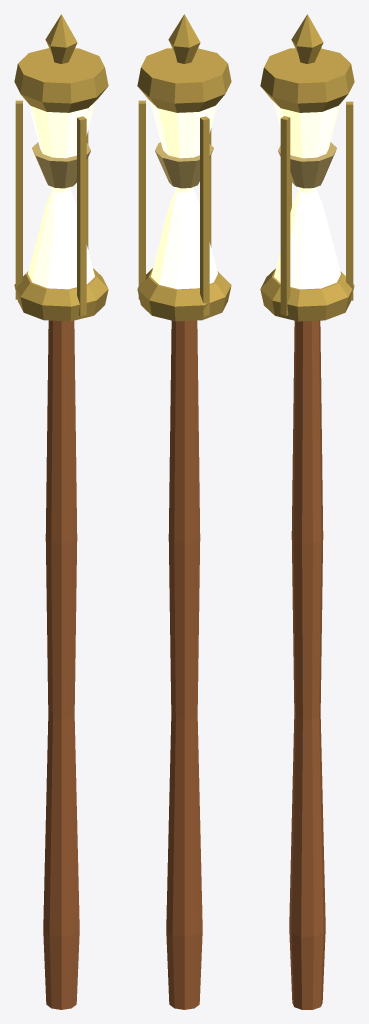
Rendered from staff_hourglass.glb.
3 renders of one model, left to right at view 1: azimuth 30°, elevation 25°; view 2: azimuth 150°, elevation 25°; view 3: azimuth 330°, elevation 25°, orthographic.
Parts seen in each view (by area): view 1: Hr_Shaft, Hr_FrameHi, Hr_GlassUp, Hr_FrameLo, Hr_GlassDn, Hr_Post2, Hr_Post1, Hr_SandDn, Hr_Finial, Hr_Post0; view 2: Hr_Shaft, Hr_FrameHi, Hr_GlassUp, Hr_FrameLo, Hr_GlassDn, Hr_Post1, Hr_Post0, Hr_SandDn, Hr_Finial, Hr_Post2; view 3: Hr_Shaft, Hr_FrameHi, Hr_GlassUp, Hr_FrameLo, Hr_GlassDn, Hr_Post2, Hr_Post0, Hr_SandDn, Hr_Finial.
Part boxes in pixels (<box>): Hr_Shaft: <box>43,320,79,1009</box>; Hr_FrameHi: <box>14,48,108,112</box>; Hr_GlassUp: <box>28,189,94,289</box>; Hr_FrameLo: <box>14,268,108,321</box>; Hr_GlassDn: <box>28,101,95,192</box>; Hr_Post2: <box>77,116,86,316</box>; Hr_Post1: <box>15,100,22,299</box>; Hr_SandDn: <box>32,142,90,188</box>; Hr_Finial: <box>45,14,77,63</box>; Hr_Post0: <box>86,131,88,249</box>; Hr_Shaft: <box>166,320,202,1009</box>; Hr_FrameHi: <box>137,48,231,112</box>; Hr_GlassUp: <box>151,189,217,289</box>; Hr_FrameLo: <box>137,268,231,321</box>; Hr_GlassDn: <box>150,101,217,192</box>; Hr_Post1: <box>200,116,209,316</box>; Hr_Post0: <box>138,100,145,299</box>; Hr_SandDn: <box>155,142,213,188</box>; Hr_Finial: <box>168,14,200,63</box>; Hr_Post2: <box>209,128,211,247</box>; Hr_Shaft: <box>289,320,325,1009</box>; Hr_FrameHi: <box>260,48,354,112</box>; Hr_GlassUp: <box>274,189,340,289</box>; Hr_FrameLo: <box>260,268,354,321</box>; Hr_GlassDn: <box>273,101,340,192</box>; Hr_Post2: <box>280,116,290,315</box>; Hr_Post0: <box>346,101,353,300</box>; Hr_SandDn: <box>278,142,336,188</box>; Hr_Finial: <box>291,14,323,63</box>.
Size of the model in its own units: 0.184 by 2.12 by 0.1766.
